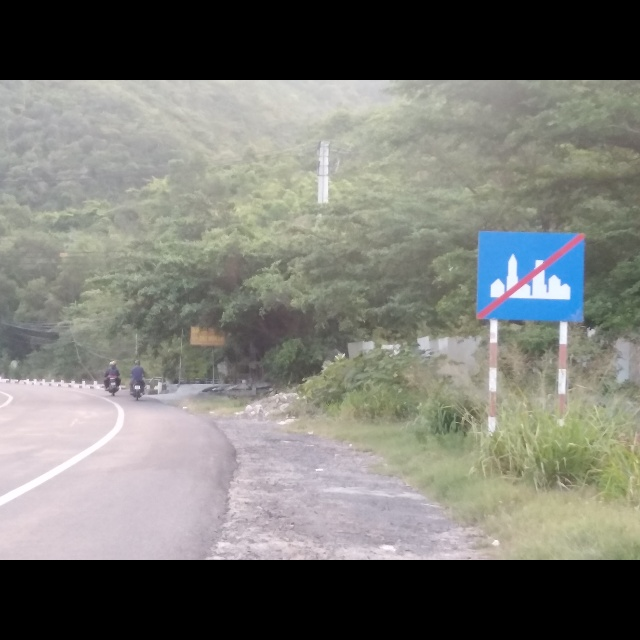Hết khu đông dân cư: (476, 229, 586, 324)
